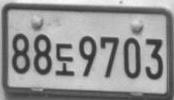0: (122, 37, 142, 79)
3: (144, 38, 164, 80)
7: (99, 36, 119, 78)
8: (32, 33, 53, 76), (11, 32, 31, 74)
9: (78, 35, 97, 77)
도: (55, 42, 75, 76)
